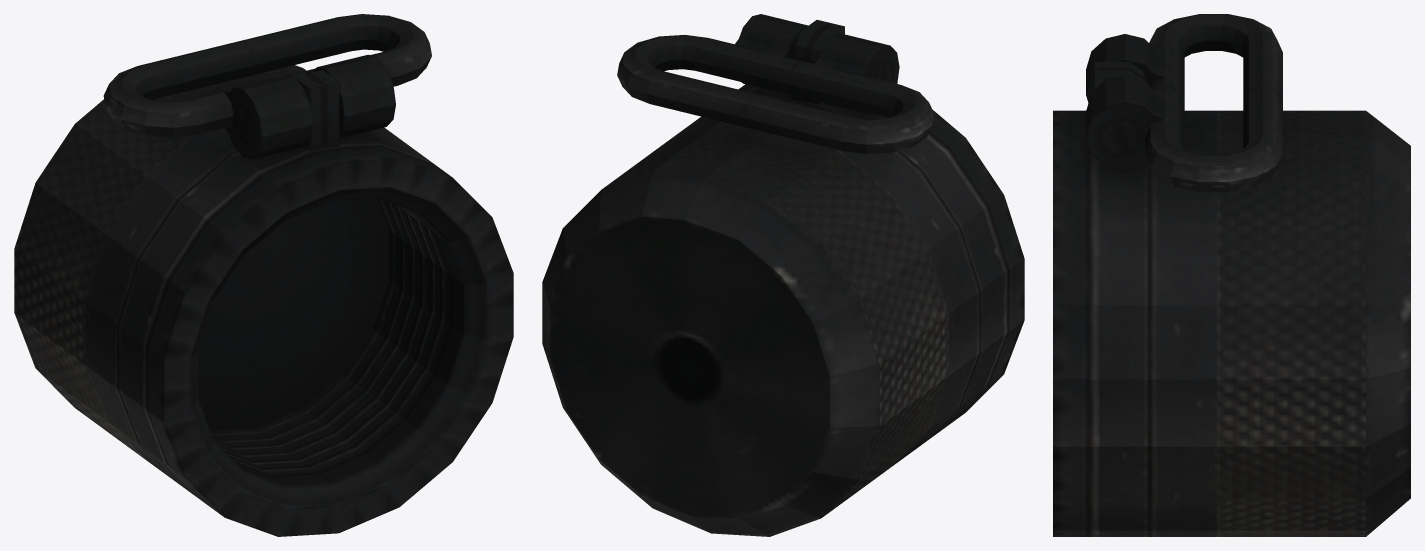
The picture shows the model from 3 angles, left to right: view 1: azimuth 30°, elevation 25°; view 2: azimuth 150°, elevation 25°; view 3: azimuth 270°, elevation 25°; orthographic projection. The views are drawn at different scales.
Visible parts, largest first — view 1: TW_56deee15d2720bee328b4567_PZ_Import; view 2: TW_56deee15d2720bee328b4567_PZ_Import; view 3: TW_56deee15d2720bee328b4567_PZ_Import.
Boxes of the visible parts, left/top/right/bottom form: TW_56deee15d2720bee328b4567_PZ_Import: left=14, top=14, right=513, bottom=536; TW_56deee15d2720bee328b4567_PZ_Import: left=542, top=14, right=1024, bottom=536; TW_56deee15d2720bee328b4567_PZ_Import: left=1053, top=14, right=1410, bottom=536.
Size of the model in its own units: 0.0167 by 0.0142 by 0.0198.
1 material, 1 textured.
